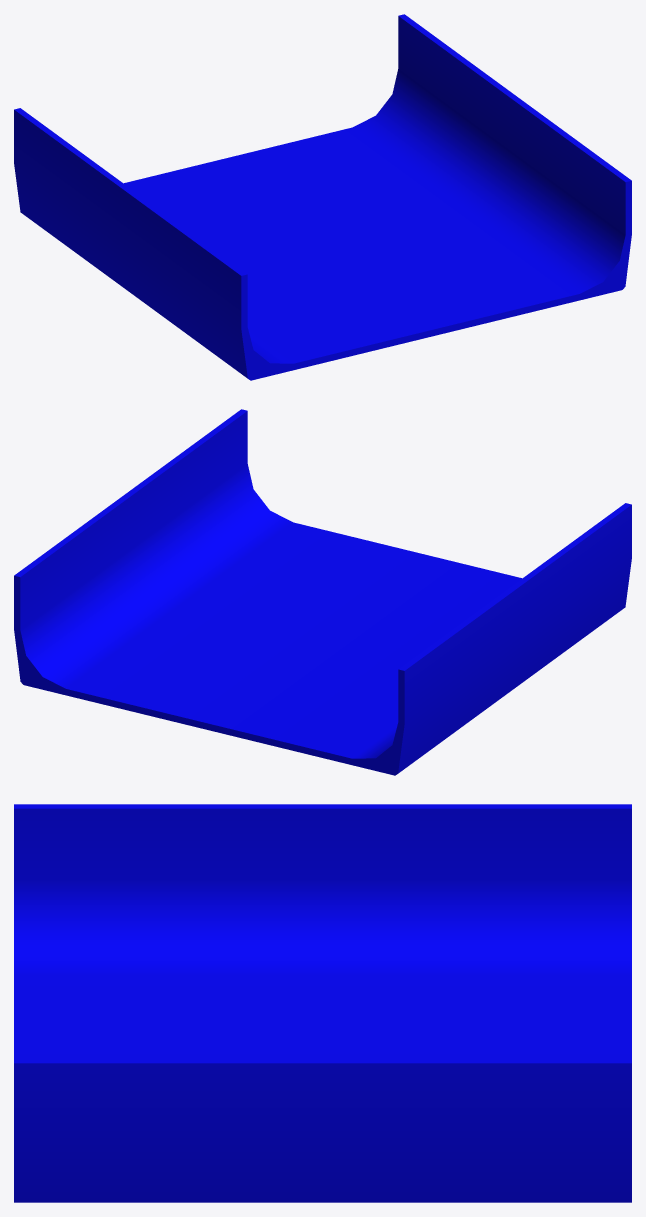
File: track_MOKCUP2.fbx
3 views of the same model, one above another, from view 1: azimuth 30°, elevation 25°; view 2: azimuth 150°, elevation 25°; view 3: azimuth 270°, elevation 25° (orthographic). The views are drawn at different scales.
Visible parts, largest first — view 1: track_MOKCUP2; view 2: track_MOKCUP2; view 3: track_MOKCUP2.
Boxes of the visible parts, box(x1,y1,x2,y2) form: track_MOKCUP2: box(14, 14, 631, 380); track_MOKCUP2: box(14, 409, 631, 775); track_MOKCUP2: box(14, 804, 631, 1202).
Bounding box in the file's own units: 0.9919 × 0.2598 × 1.
